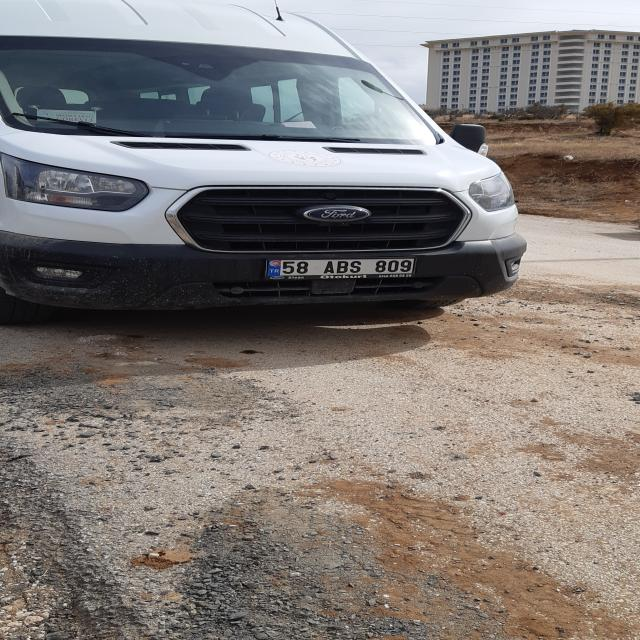plate: (266, 258, 416, 276)
